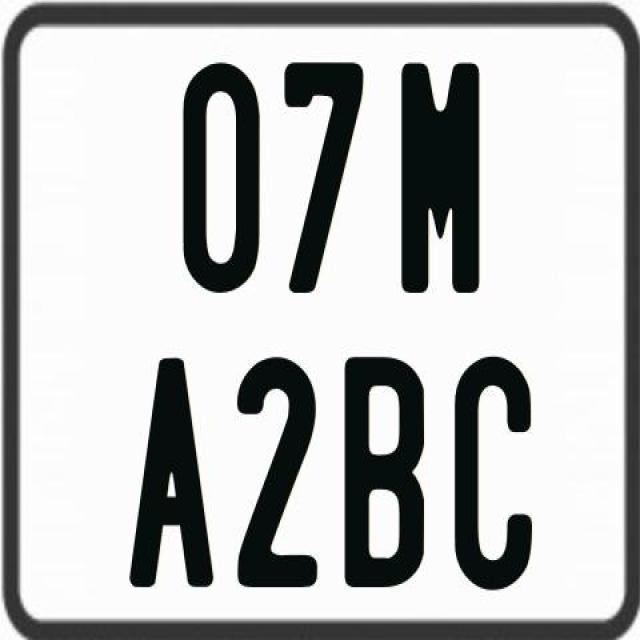0: (178, 59, 262, 293)
2: (235, 356, 318, 590)
7: (282, 61, 366, 294)
A: (130, 357, 213, 587)
B: (344, 354, 429, 586)
C: (450, 352, 532, 595)
M: (399, 60, 477, 298)
